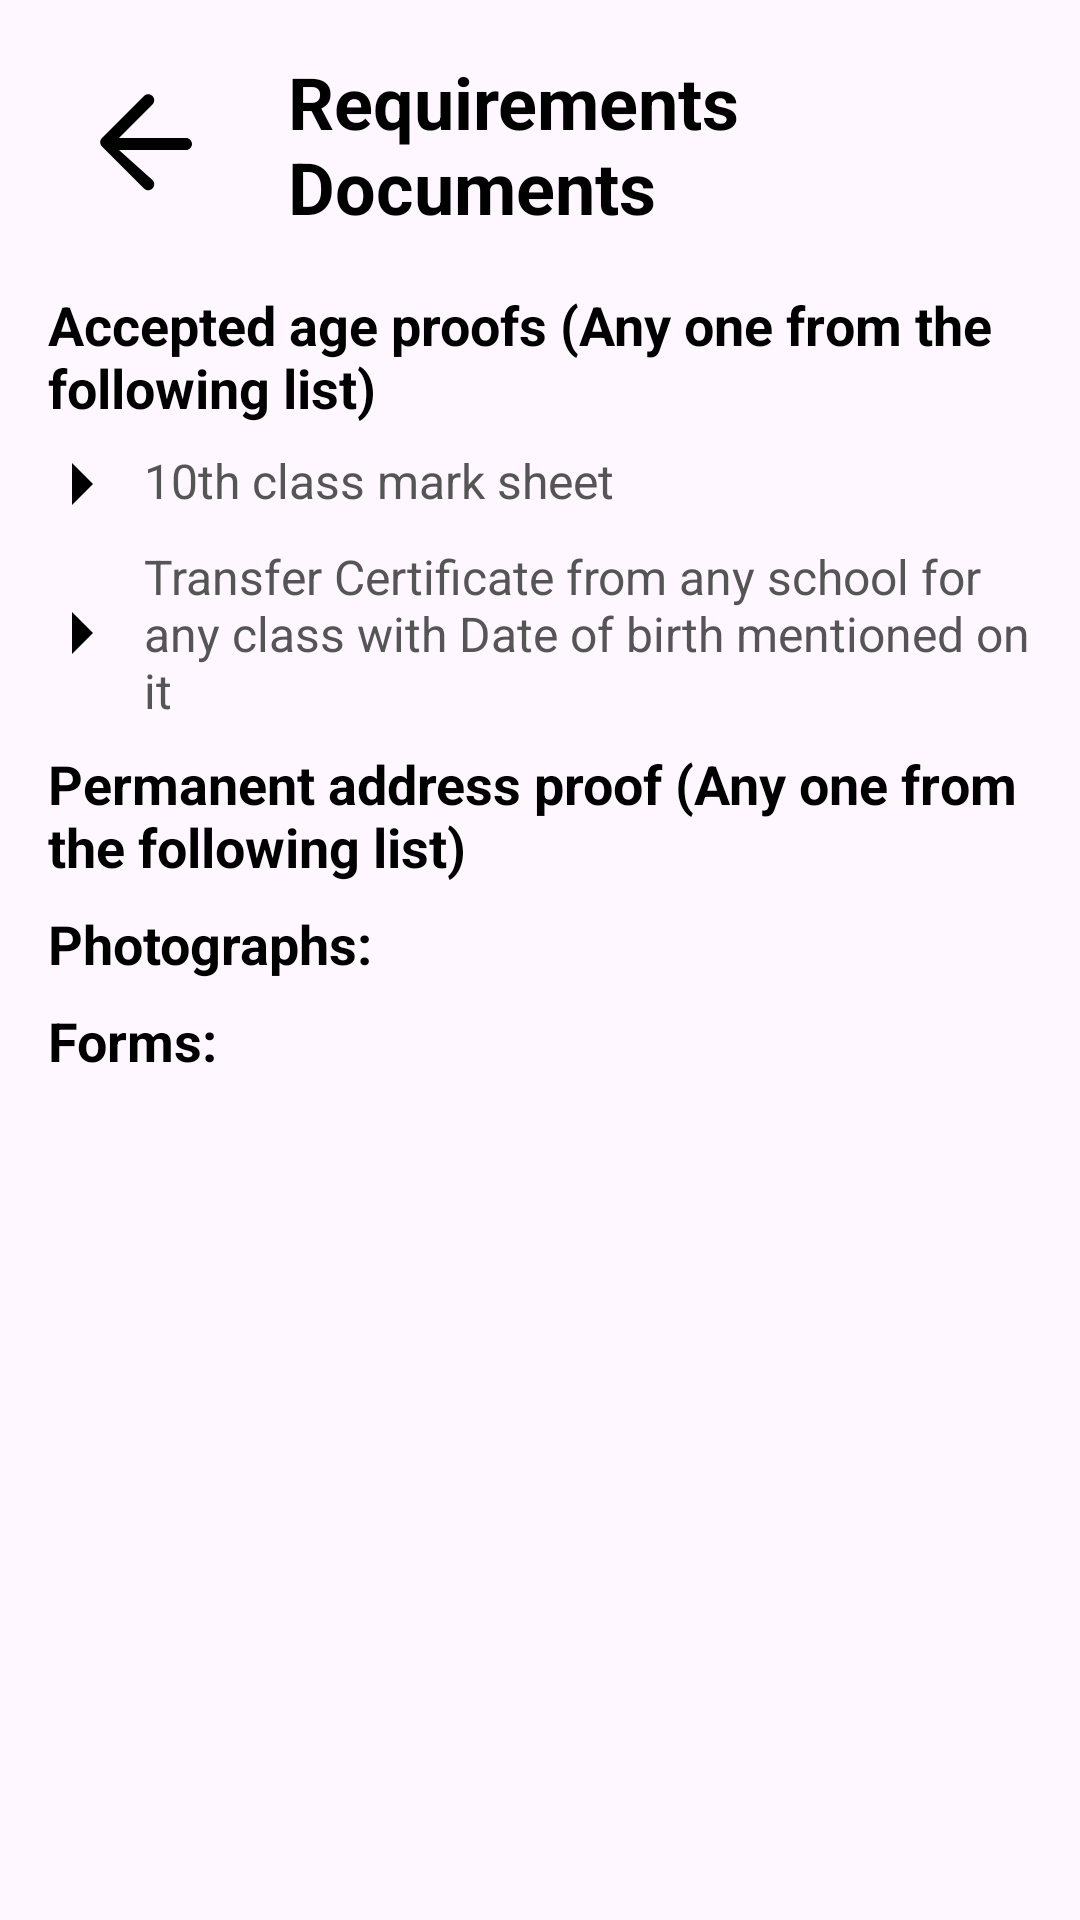

Where icons sit on this 1080px x 1920px app screen, as {"x1": x1, "y1": y1, "x2": x2, "y2": y2}:
arrow bullet: {"x1": 72, "y1": 463, "x2": 93, "y2": 505}, {"x1": 72, "y1": 612, "x2": 93, "y2": 654}
Back button: {"x1": 100, "y1": 94, "x2": 192, "y2": 191}
